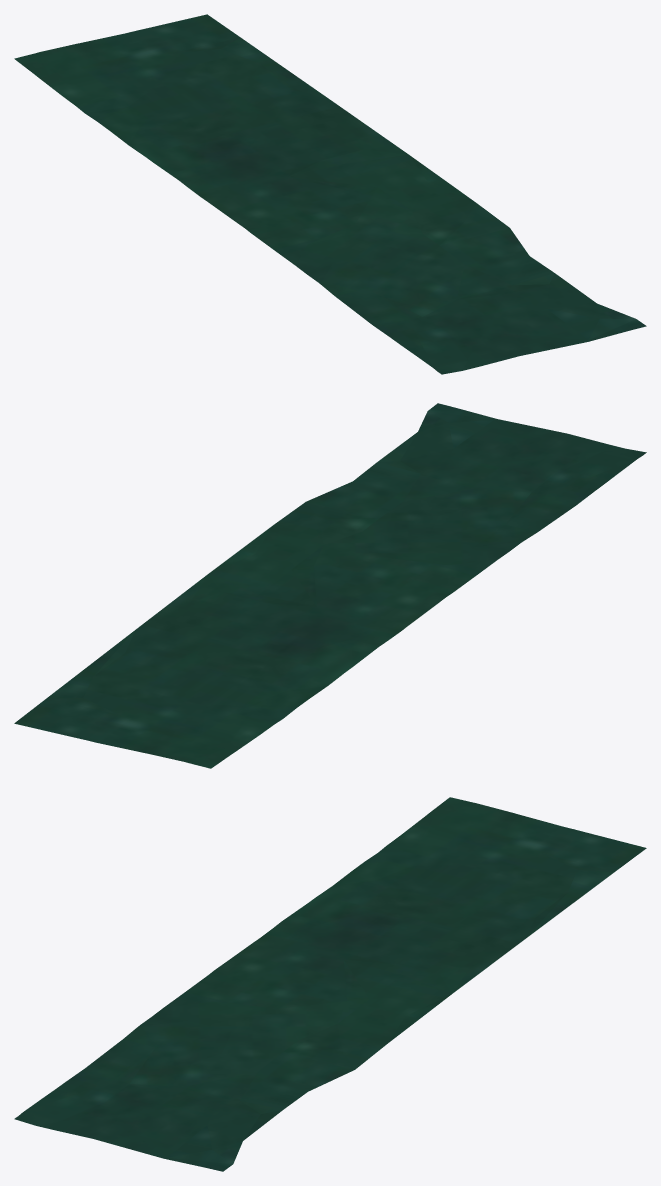
The picture shows the model from 3 angles, top to bottom: view 1: azimuth 30°, elevation 25°; view 2: azimuth 150°, elevation 25°; view 3: azimuth 330°, elevation 25°; orthographic projection.
Bounding box in the file's own units: 14.46 × 0.416 × 52.22.
1 material, 1 textured.
